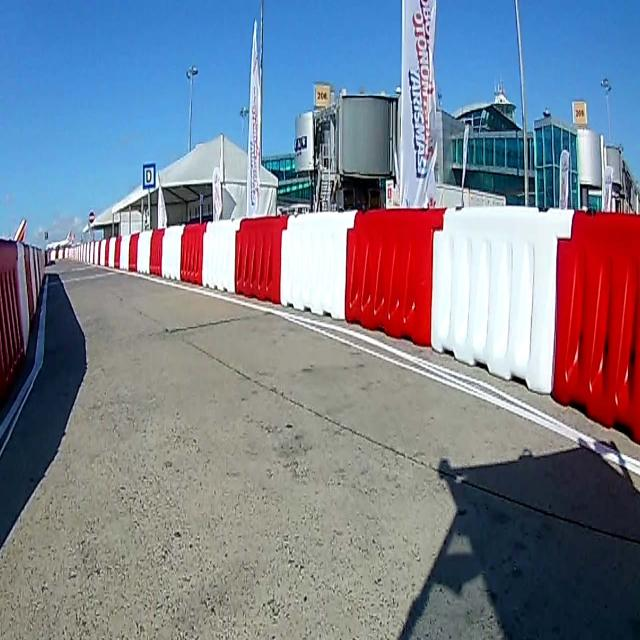durak: (142, 163, 156, 189)
